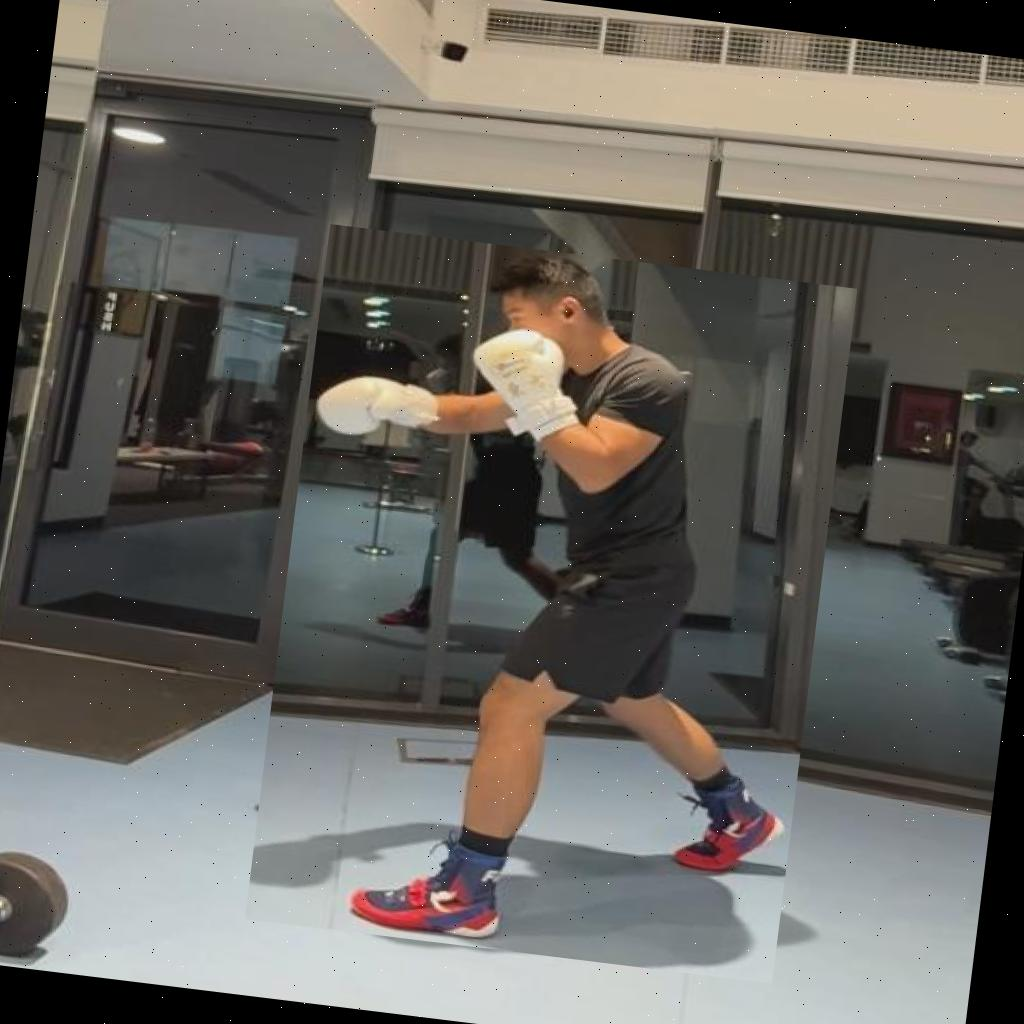hook: (244, 224, 856, 983)
